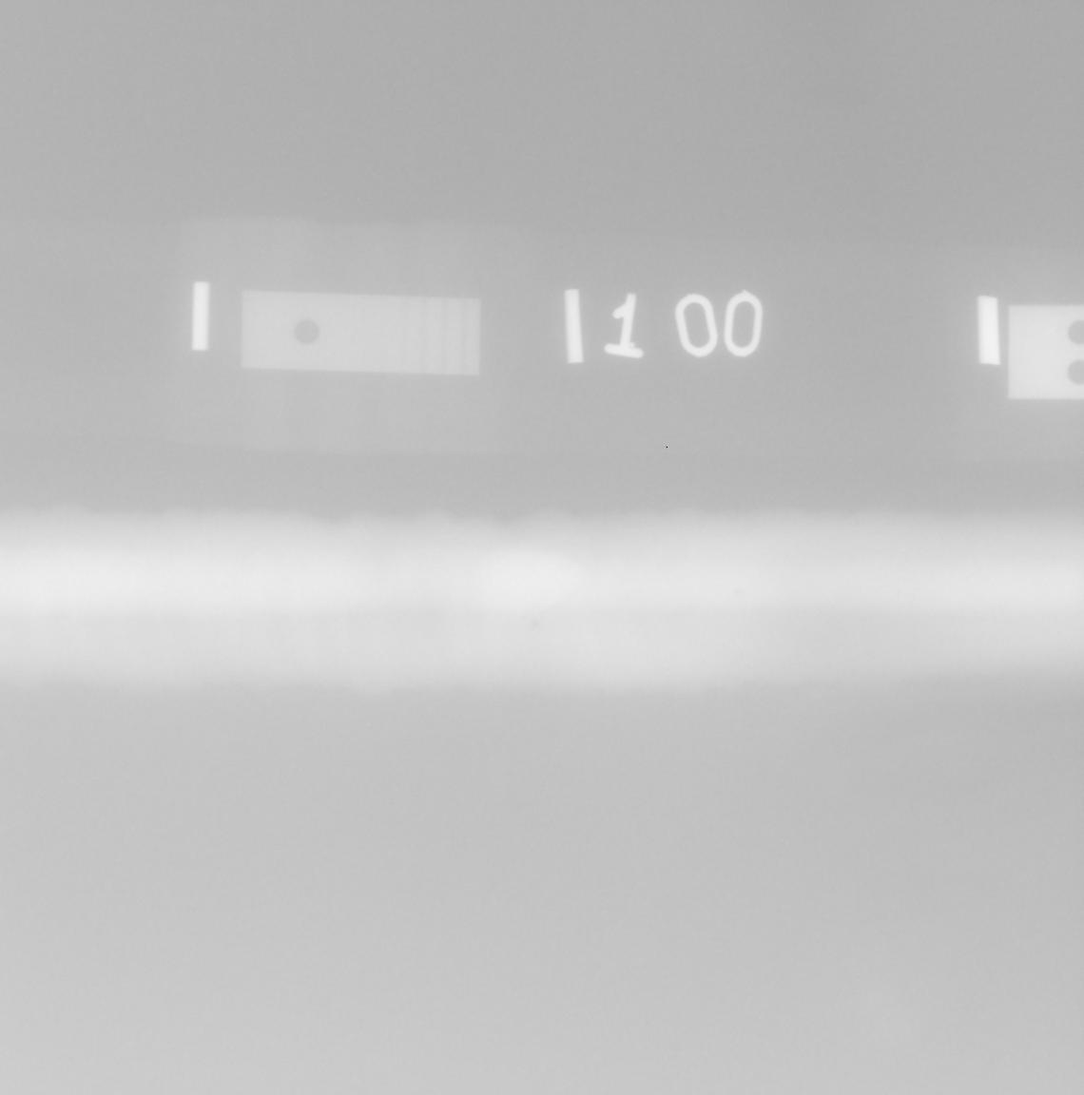Pore/Porosity: (531, 621, 539, 630), (734, 589, 740, 594)
Reference Standard 1: (242, 291, 480, 376)
